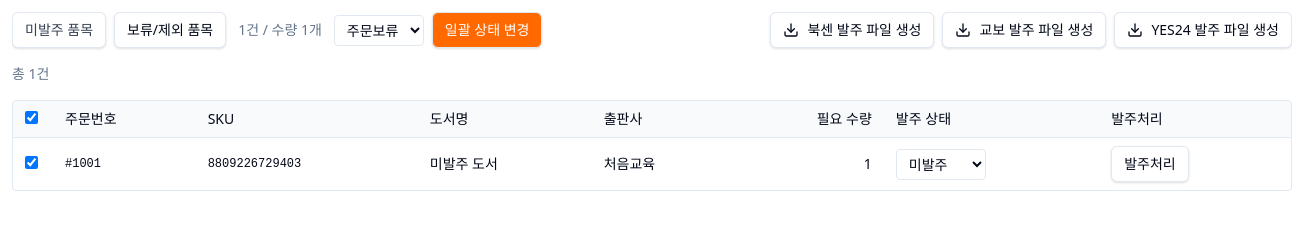
Test: UnorderedItemsTab › T12: switches to the excluded view, shows status labels, and offers unordered in both selects (AC-RESTORE-012)
Expected: the text "미발주 도서" is shown, [418,138,592,190]
Expected: the text "보류 도서" is not shown
Click the button "보류/제외 품목" at (170, 30), box [114,12,226,48]
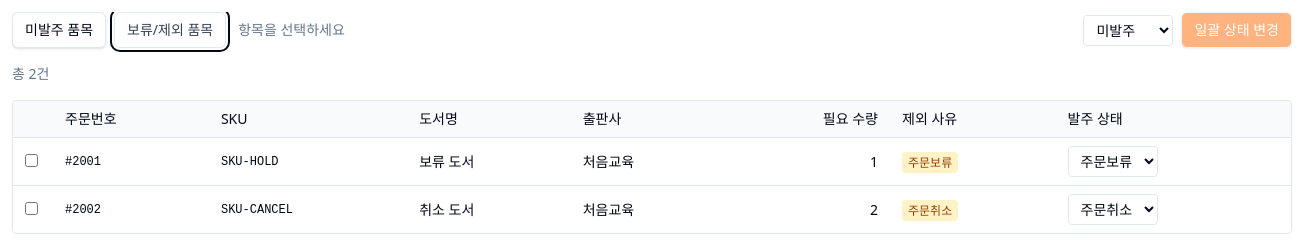
Now the text "보류 도서" is shown, box [407,138,571,186]
Now the text "취소 도서" is shown, box [407,186,571,233]
Now the cell "주문보류" is shown, box [890,138,1056,186]
